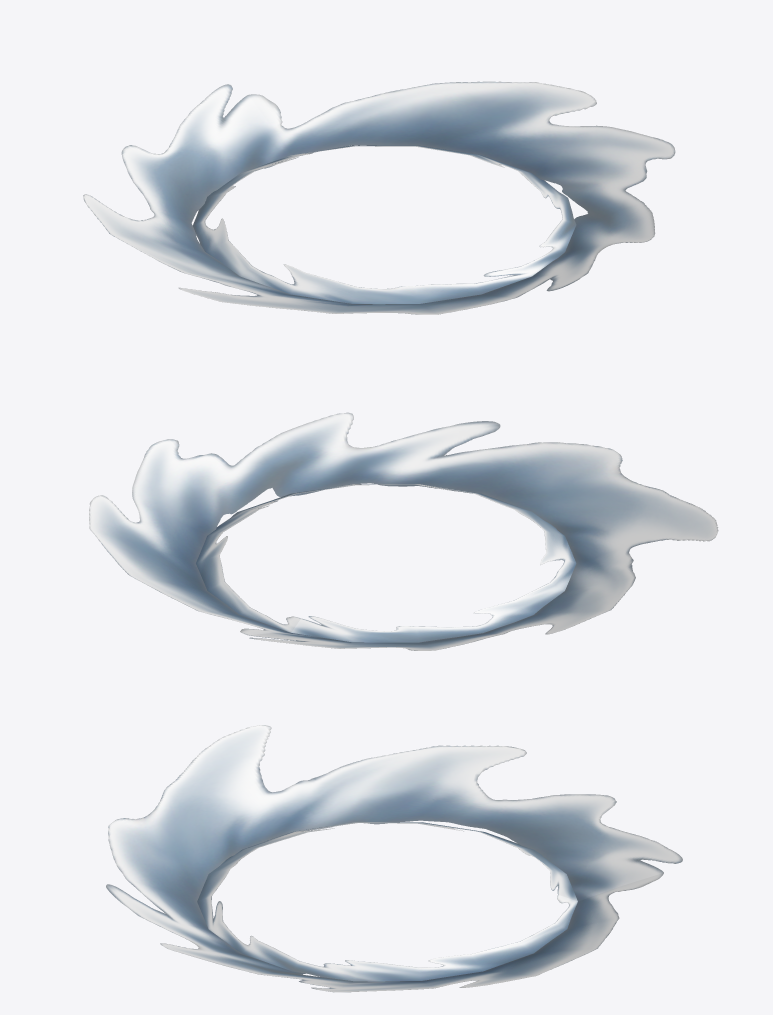
The model's file is longjuanfeng_bm03.FBX.
3 views of the same model, one above another, from view 1: azimuth 30°, elevation 25°; view 2: azimuth 150°, elevation 25°; view 3: azimuth 270°, elevation 25° (orthographic).
Parts seen in each view (by area): view 1: longjuanfeng03; view 2: longjuanfeng03; view 3: longjuanfeng03.
Boxes of the visible parts, x1,y1,x2,y2 form: longjuanfeng03: [83, 81, 675, 314]; longjuanfeng03: [89, 412, 718, 650]; longjuanfeng03: [106, 725, 682, 992].
Bounding box in the file's own units: 350 × 31.97 × 354.
Materials: 1 (1 with a texture image).
